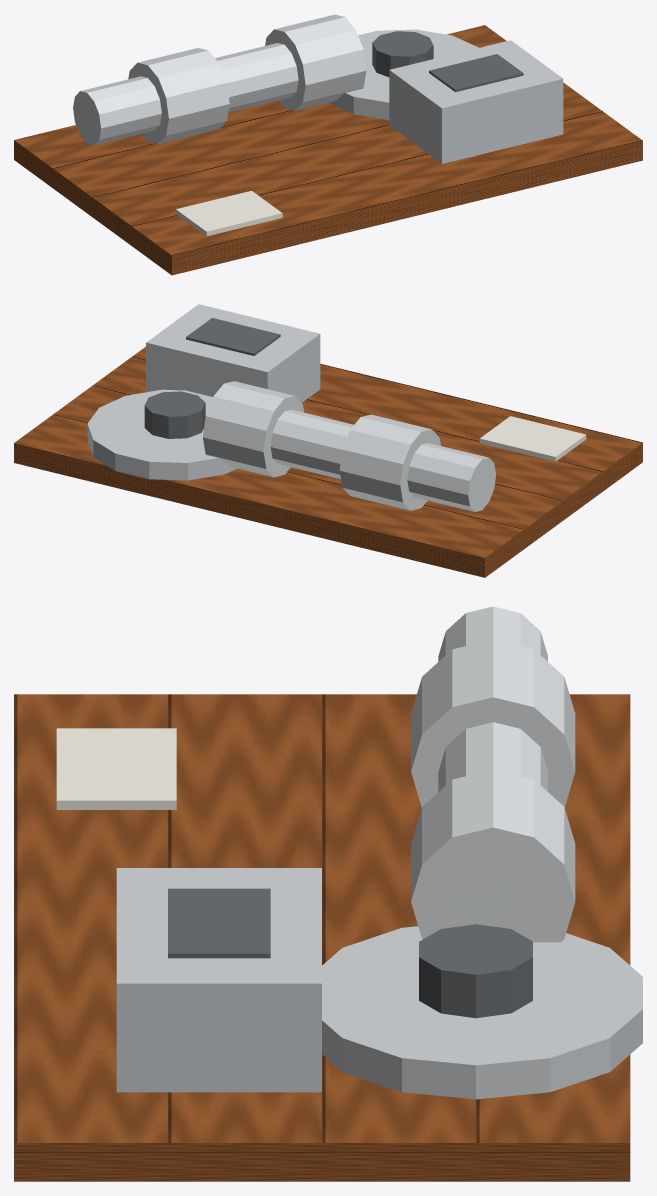
Rendered from set-of-machined-parts.glb.
3 views of the same model, one above another, from view 1: azimuth 30°, elevation 25°; view 2: azimuth 150°, elevation 25°; view 3: azimuth 270°, elevation 25° (orthographic). The views are drawn at different scales.
Parts seen in each view (by area): view 1: machine-shop-and-factory-hall-machined-part-set; view 2: machine-shop-and-factory-hall-machined-part-set; view 3: machine-shop-and-factory-hall-machined-part-set.
Part boxes in pixels (left/top/right/bottom): machine-shop-and-factory-hall-machined-part-set: left=14, top=14, right=642, bottom=275; machine-shop-and-factory-hall-machined-part-set: left=14, top=304, right=642, bottom=577; machine-shop-and-factory-hall-machined-part-set: left=14, top=606, right=642, bottom=1181.
Bounding box in the file's own units: 0.62 × 0.121 × 0.3675.
Materials: 5 (1 with a texture image).
